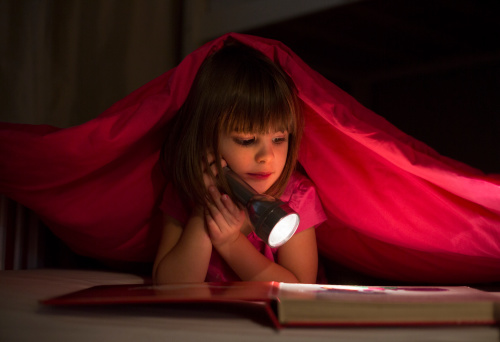deitado: (94, 50, 346, 311)
